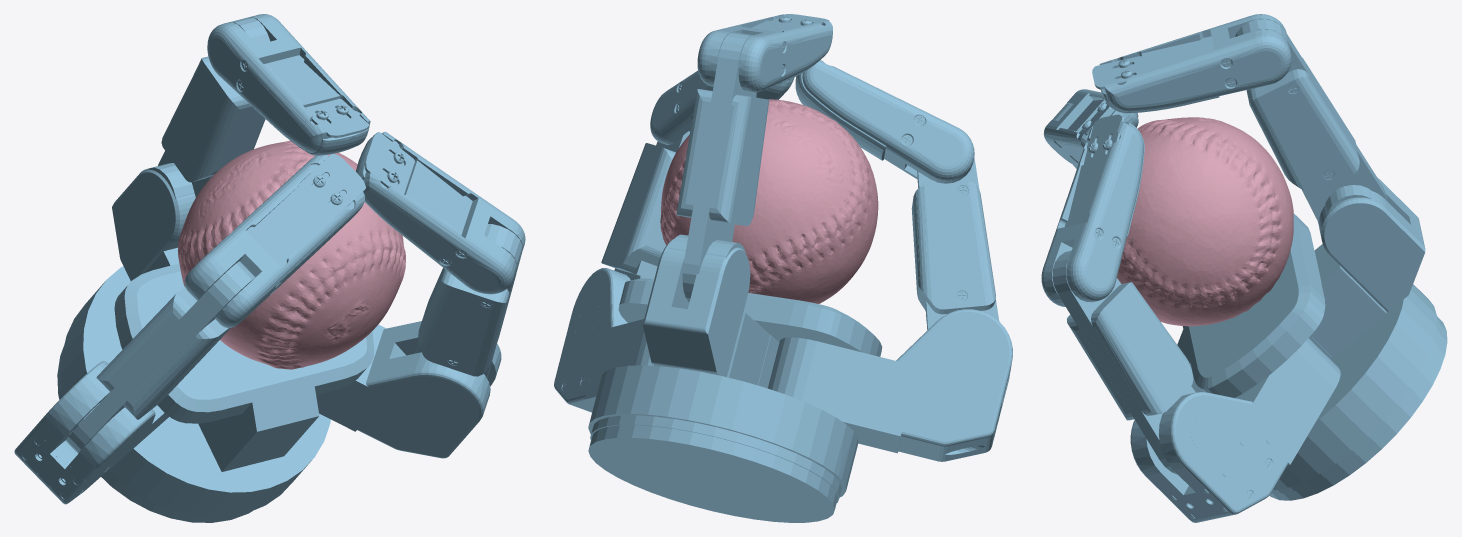
3 views of the same model, side by side, from view 1: azimuth 30°, elevation 25°; view 2: azimuth 150°, elevation 25°; view 3: azimuth 270°, elevation 25° (orthographic). The views are drawn at different scales.
Parts seen in each view (by area): view 1: world; view 2: world; view 3: world.
Part boxes in pixels (x1,y1,x2,y2): world: [14, 14, 525, 522]; world: [554, 14, 1012, 522]; world: [1041, 14, 1447, 522].
Size of the model in its own units: 0.172 by 0.1775 by 0.1401.
